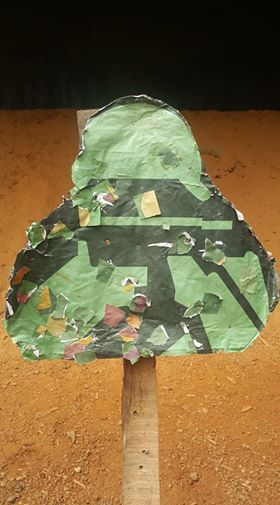Bullet: (63, 191, 71, 199), (185, 238, 191, 246), (104, 239, 111, 244)
